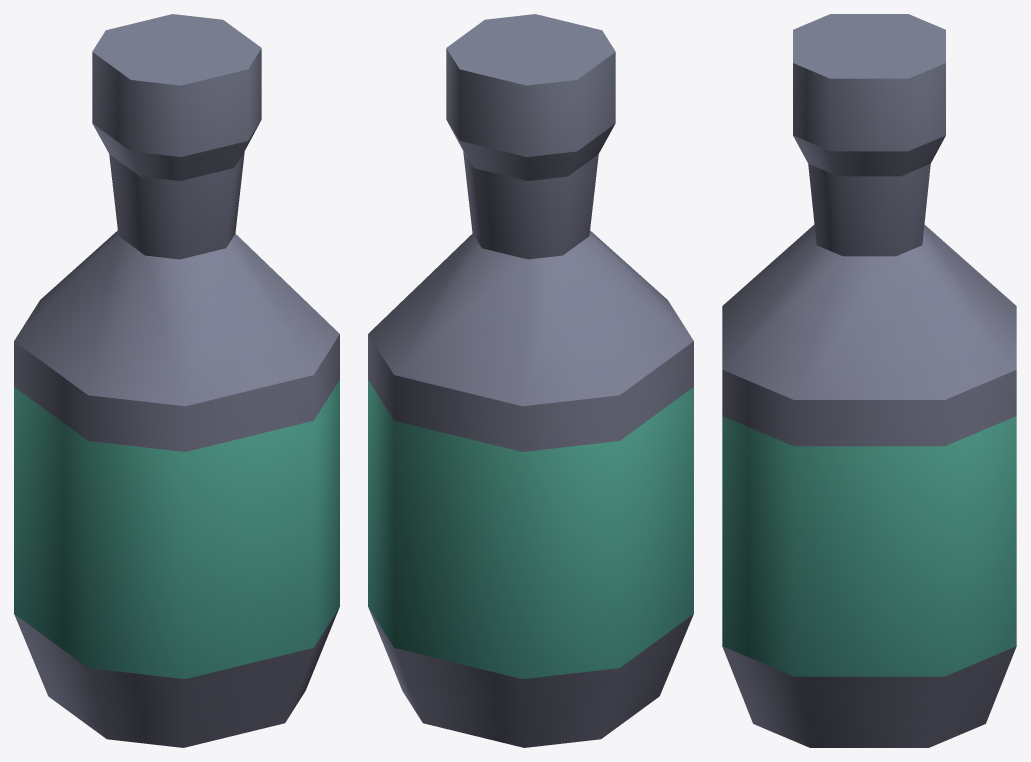
File: bottle.fbx
3 renders of one model, left to right at view 1: azimuth 30°, elevation 25°; view 2: azimuth 150°, elevation 25°; view 3: azimuth 270°, elevation 25°, orthographic.
Visible parts, largest first — view 1: bottle; view 2: bottle; view 3: bottle.
Boxes of the visible parts, x1,y1,x2,y2 form: bottle: (14, 14, 339, 747); bottle: (368, 14, 693, 747); bottle: (722, 14, 1016, 747).
Size of the model in its own units: 36.43 by 89.05 by 36.43.
